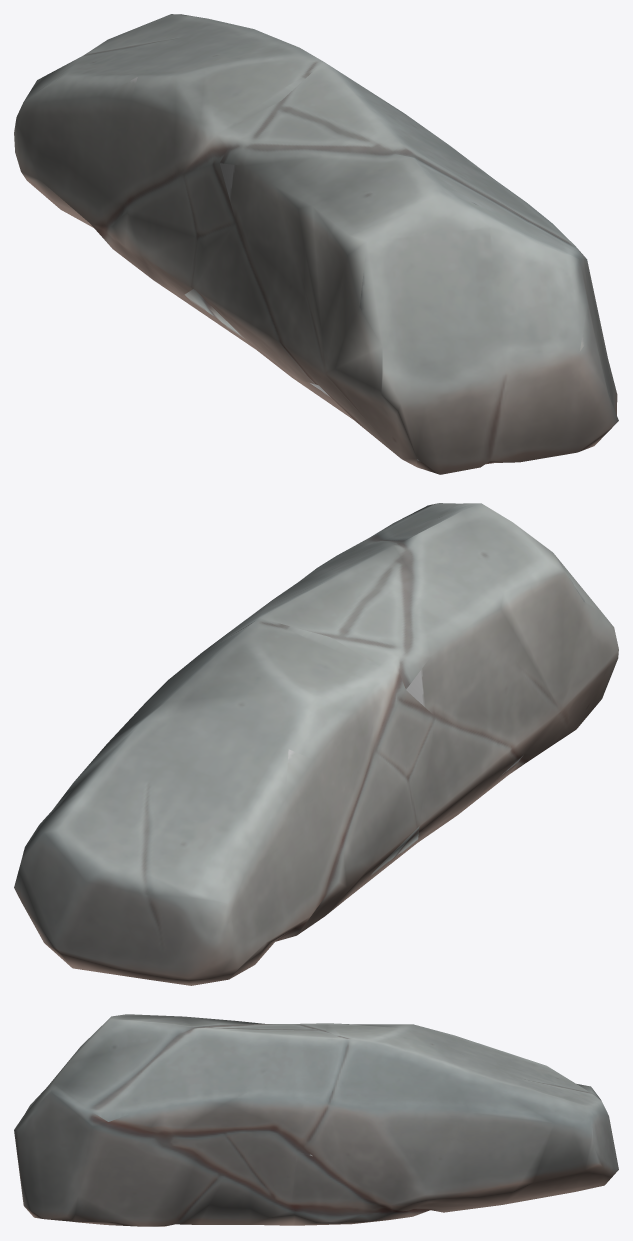
Rendered from ROK0110017.fbx.
3 views of the same model, one above another, from view 1: azimuth 30°, elevation 25°; view 2: azimuth 150°, elevation 25°; view 3: azimuth 270°, elevation 25° (orthographic). The views are drawn at different scales.
Visible parts, largest first — view 1: smROK0110017; view 2: smROK0110017; view 3: smROK0110017.
Part boxes in pixels (left/top/right/bottom): smROK0110017: left=14, top=14, right=618, bottom=474; smROK0110017: left=14, top=503, right=618, bottom=985; smROK0110017: left=14, top=1014, right=618, bottom=1226.
Bounding box in the file's own units: 47.48 × 44.22 × 147.
Materials: 1 (1 with a texture image).
